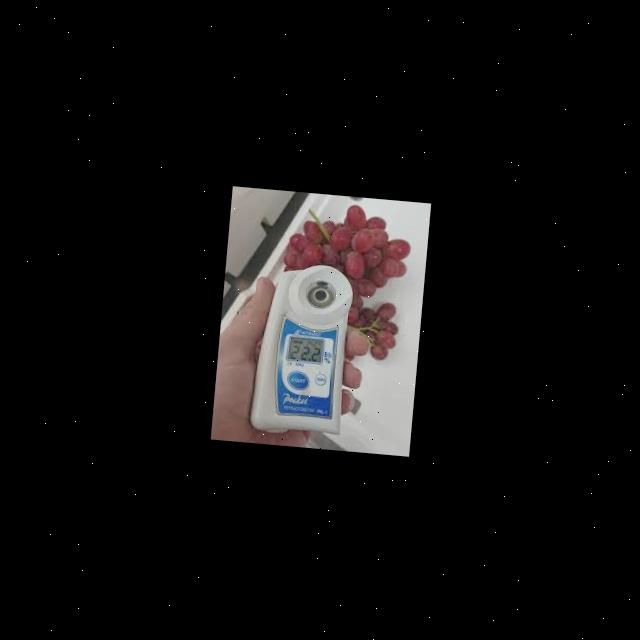grape: (274, 197, 412, 360)
